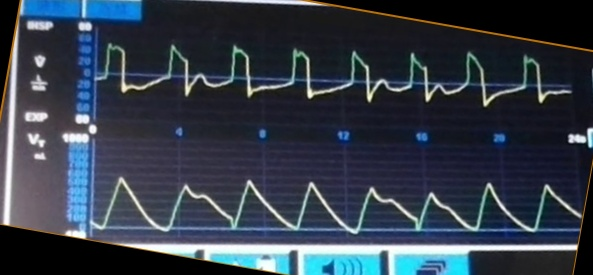Premature_cycling Flow: (97, 40, 570, 120)
Premature_cycling Volume: (93, 169, 578, 239)
